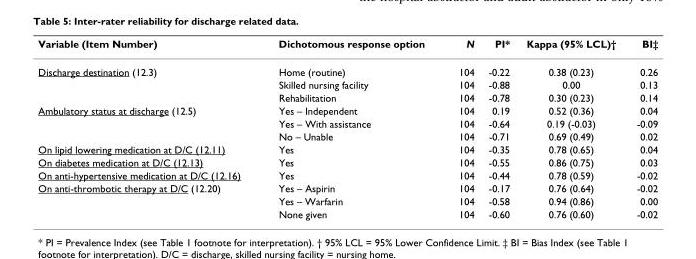table: (37, 37, 657, 219)
table column: (37, 37, 258, 219), (258, 37, 441, 219), (517, 37, 625, 219), (441, 37, 480, 219), (480, 37, 517, 219), (625, 37, 657, 219)
table column header: (37, 37, 657, 57)
table row: (37, 37, 657, 57), (37, 57, 657, 77), (37, 77, 657, 90), (37, 90, 657, 103), (37, 103, 657, 116), (37, 116, 657, 129), (37, 129, 657, 142), (37, 142, 657, 155), (37, 155, 657, 168), (37, 168, 657, 181), (37, 181, 657, 194), (37, 194, 657, 207), (37, 207, 657, 219)
table spanning cell: (37, 57, 258, 103), (37, 103, 258, 142), (37, 181, 258, 219)
